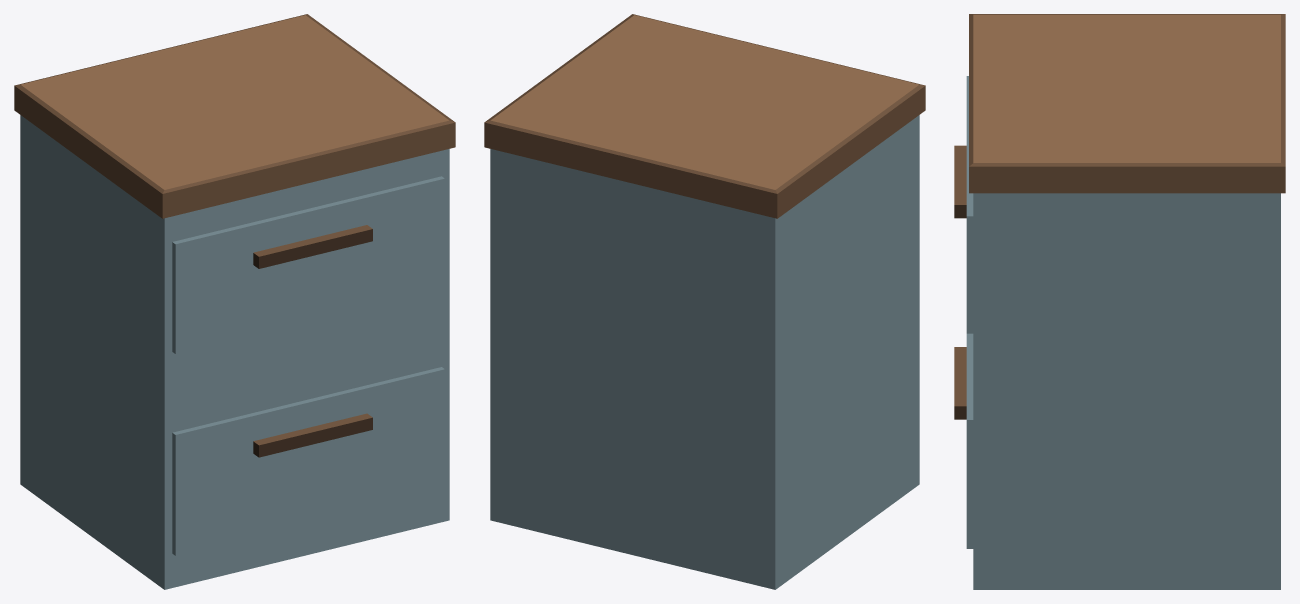
Rendered from FilingCabinet.fbx.
3 renders of one model, left to right at view 1: azimuth 30°, elevation 25°; view 2: azimuth 150°, elevation 25°; view 3: azimuth 270°, elevation 25°, orthographic. The views are drawn at different scales.
Visible parts, largest first — view 1: FilingCabinet; view 2: FilingCabinet; view 3: FilingCabinet.
Part boxes in pixels (x1,y1,x2,y2): FilingCabinet: (14,14,455,589); FilingCabinet: (484,14,925,589); FilingCabinet: (954,14,1285,589).
Bounding box in the file's own units: 1.19 × 1.09 × 1.56.
